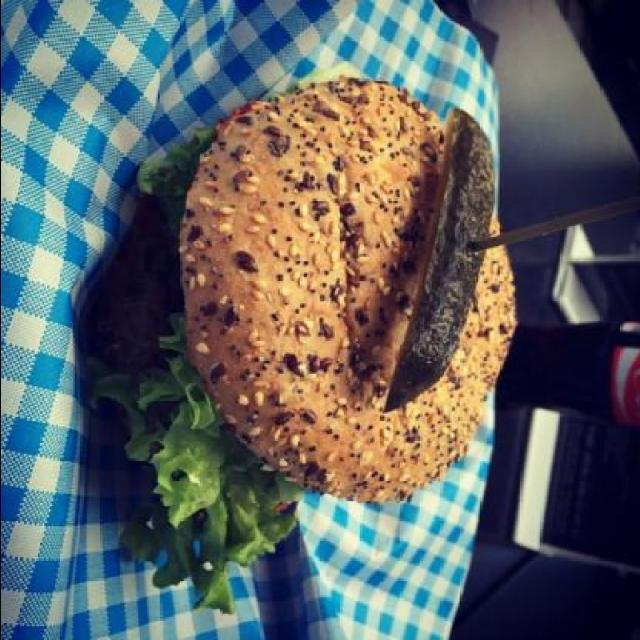Bagel: (166, 79, 516, 507)
